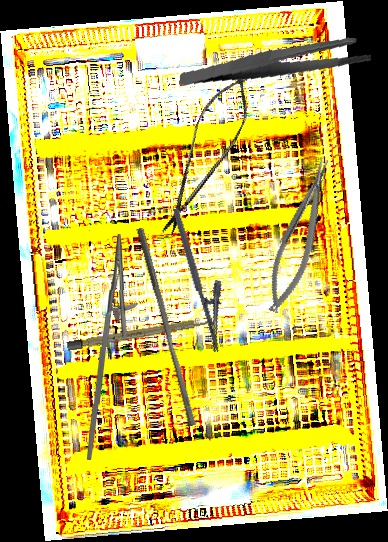Dressing Forceps: (179, 20, 373, 105)
Micro Scissor: (148, 63, 264, 246)
Needle Holder: (255, 154, 346, 318), (85, 233, 140, 461), (171, 202, 240, 353)
Pusher: (128, 227, 204, 427)
Scalpel Handle: (66, 316, 214, 351)
